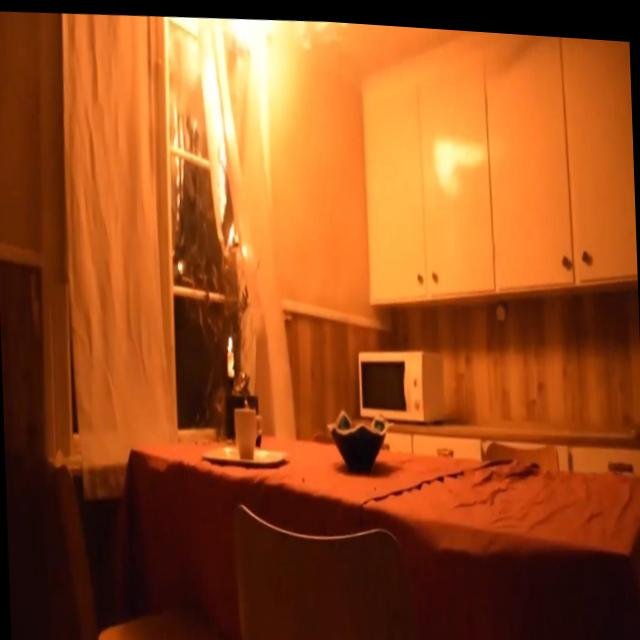fire: (185, 12, 336, 181), (226, 326, 234, 348)
